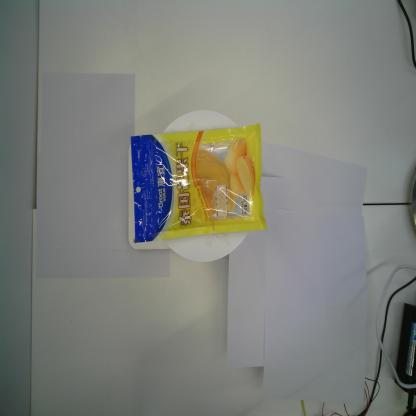Dried Fruit: (129, 122, 267, 243)
